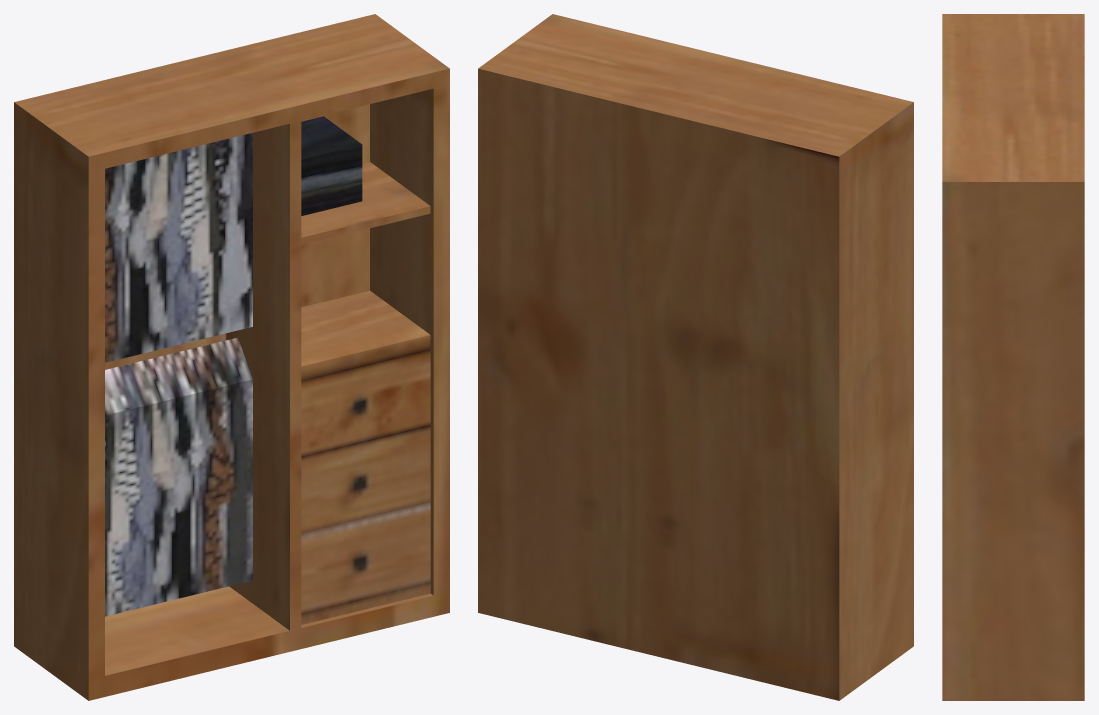
The model's file is Wardrobe_01-col.glb.
3 views of the same model, side by side, from view 1: azimuth 30°, elevation 25°; view 2: azimuth 150°, elevation 25°; view 3: azimuth 270°, elevation 25° (orthographic). The views are drawn at different scales.
Parts seen in each view (by area): view 1: Wardrobe_01-col; view 2: Wardrobe_01-col; view 3: Wardrobe_01-col.
Part boxes in pixels (box(x1,y1,x2,y2)): Wardrobe_01-col: box(14, 14, 449, 700); Wardrobe_01-col: box(478, 14, 913, 700); Wardrobe_01-col: box(942, 14, 1084, 700).
Bounding box in the file's own units: 1.37 × 1.98 × 0.4915.
1 material, 1 textured.
